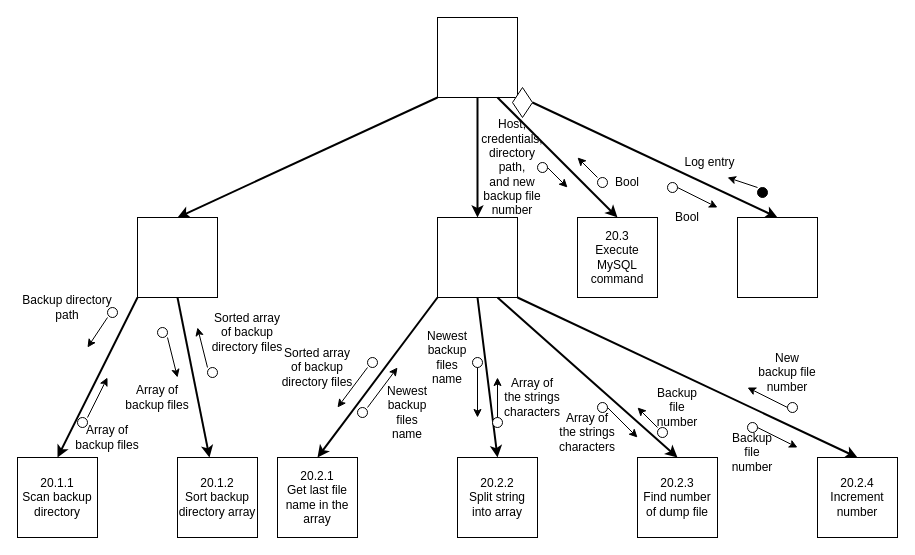
Image size: 915x555. Some labels were removed from this diagram. The shapes that lost their labels are listed below. From the top down, each one's centre as x and y in pixels, then its label:
(x=477, y=57): 20 Backup database
(x=177, y=257): 20.1 Manage directory contents
(x=477, y=257): 20.2 Prepare new file number
(x=777, y=257): 20.4 Log failure
